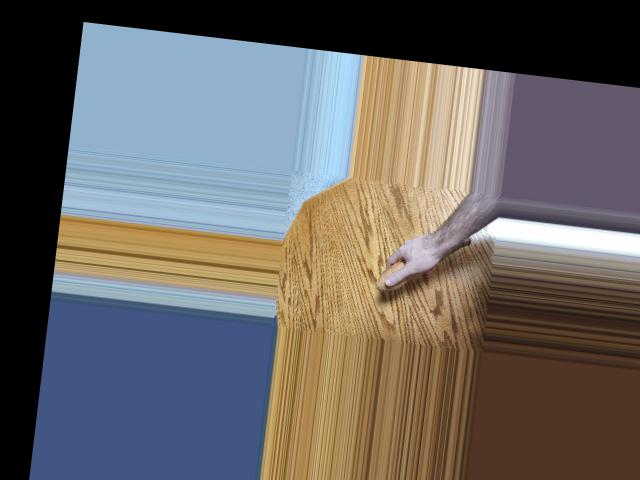sweet_potato: (374, 220, 476, 302)
